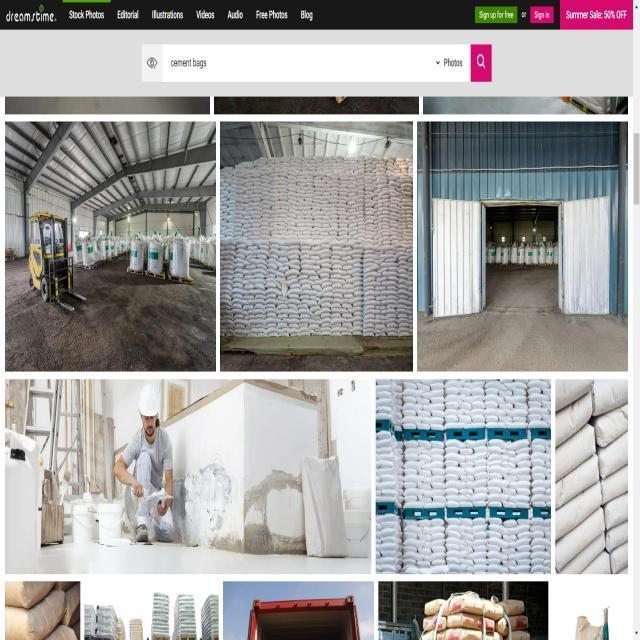gunny_bag: (557, 508, 606, 572), (557, 481, 603, 540), (557, 454, 601, 509), (556, 424, 597, 482), (559, 532, 607, 574), (591, 404, 629, 447), (597, 432, 629, 479), (601, 465, 629, 505), (450, 596, 485, 615), (447, 613, 483, 630), (447, 476, 461, 489), (490, 459, 503, 467), (490, 620, 495, 632)
